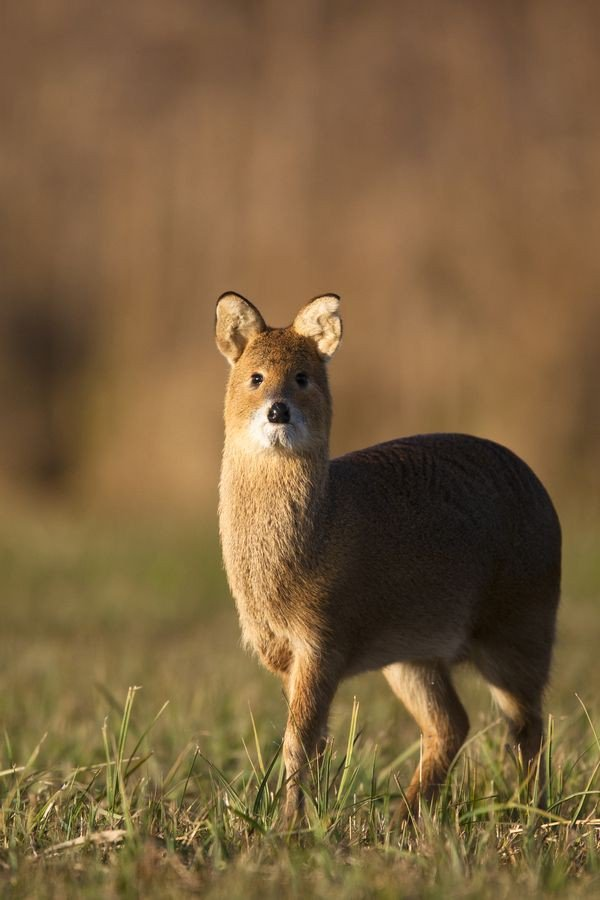elk: (203, 272, 560, 837)
